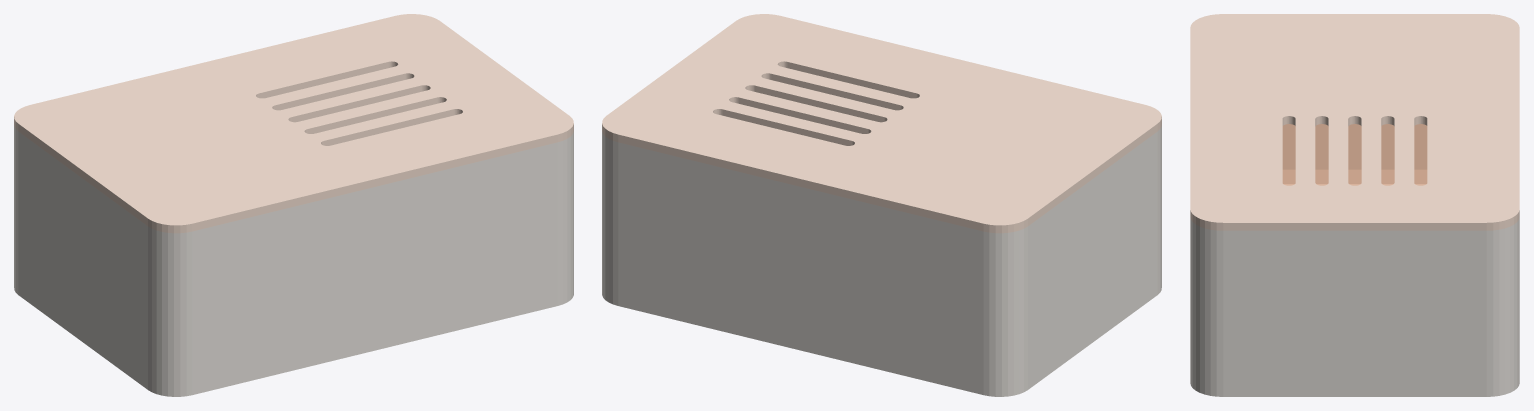
File: fixture.glb
The picture shows the model from 3 angles, left to right: view 1: azimuth 30°, elevation 25°; view 2: azimuth 150°, elevation 25°; view 3: azimuth 270°, elevation 25°; orthographic projection.
Parts seen in each view (by area): view 1: base, lid; view 2: base, lid; view 3: lid, base, board.
Part boxes in pixels (x1=…): base: x1=14, y1=124, x2=573, y2=396; lid: x1=14, y1=14, x2=573, y2=233; base: x1=602, y1=124, x2=1161, y2=396; lid: x1=602, y1=14, x2=1161, y2=233; lid: x1=1190, y1=14, x2=1519, y2=230; base: x1=1190, y1=124, x2=1519, y2=396; board: x1=1282, y1=124, x2=1427, y2=185.
Size of the model in its own units: 0.09 by 0.035 by 0.06.
